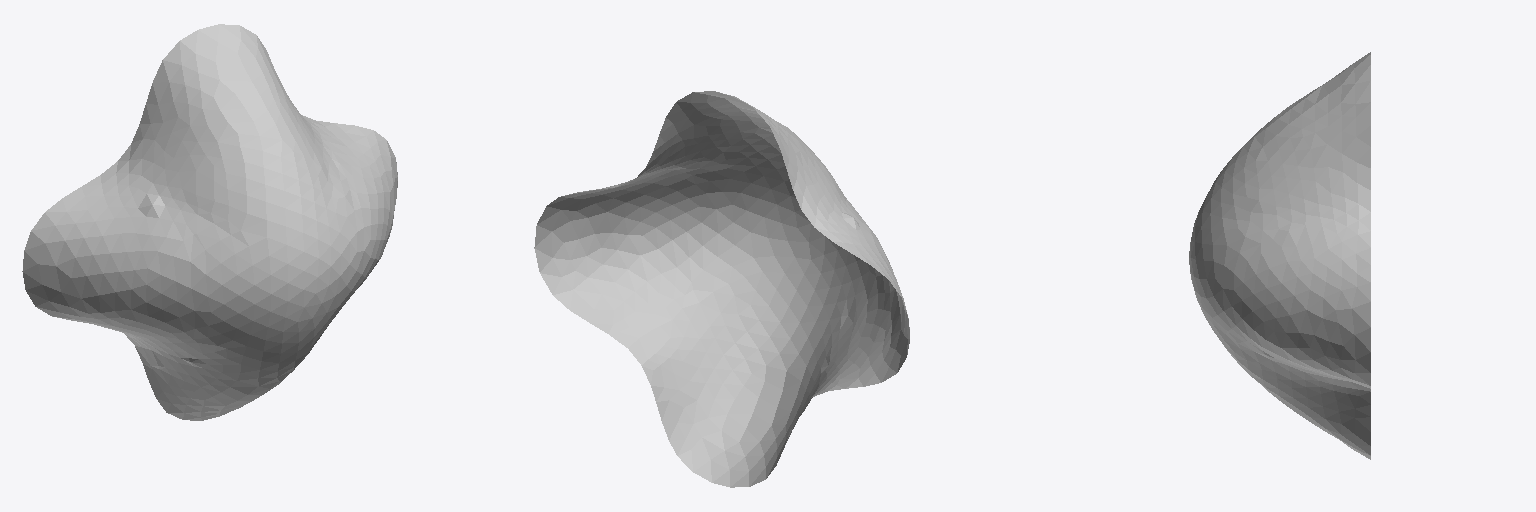
File: ttop_opt_start.obj
The picture shows the model from 3 angles: view 1: azimuth 30°, elevation 25°; view 2: azimuth 150°, elevation 25°; view 3: azimuth 270°, elevation 25°; orthographic projection.
Parts seen in each view (by area): view 1: samples/ttop_opt_start; view 2: samples/ttop_opt_start; view 3: samples/ttop_opt_start.
Boxes of the visible parts, box(x1,y1,x2,y2) form: samples/ttop_opt_start: box(22, 24, 397, 420); samples/ttop_opt_start: box(534, 91, 909, 487); samples/ttop_opt_start: box(1189, 52, 1370, 459).
Size of the model in its own units: 29.17 by 29.11 by 12.26.